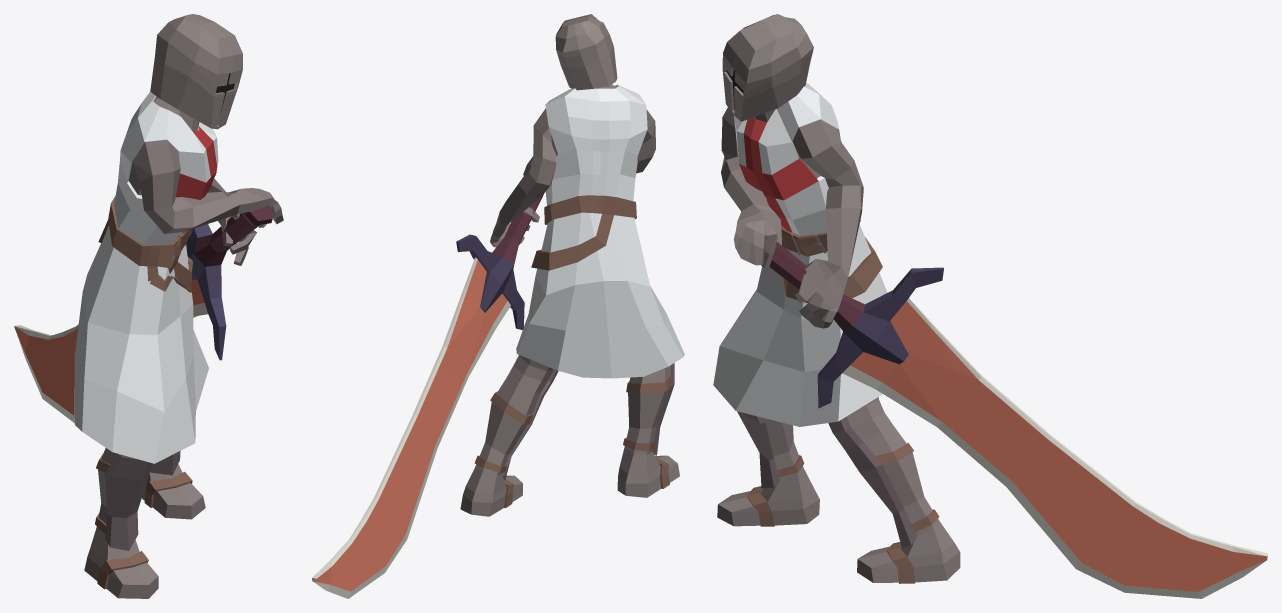
The model's file is SwordsMan.fbx.
3 views of the same model, side by side, from view 1: azimuth 30°, elevation 25°; view 2: azimuth 150°, elevation 25°; view 3: azimuth 270°, elevation 25° (orthographic). The views are drawn at different scales.
Visible parts, largest first — view 1: Swordsman; view 2: Swordsman; view 3: Swordsman.
Boxes of the visible parts, box(x1,y1,x2,y2) form: Swordsman: box(14, 14, 283, 598); Swordsman: box(312, 14, 684, 598); Swordsman: box(713, 14, 1267, 598).
Size of the model in its own units: 182 by 486 by 445.
